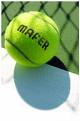tennis ball: (4, 9, 62, 68)
